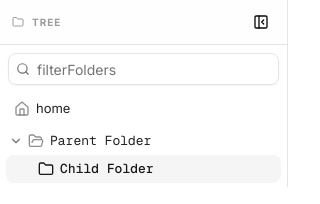
Test: DirectoryTreeSidebar › auto-expands parent folder for active route and keeps it collapsed when user closes it
The width and height of the screenshot is (320, 204).
# Collapse the parent folder
What coordinates should you click on to do the following:
click the button named "collapseFolder"
I would click on:
 (16, 141)
Its box is [6, 127, 26, 155].
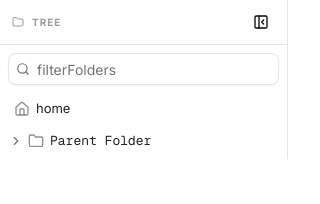
Check: the button named "expandFolder" is collapsed, box [6, 127, 26, 155]
Check: the text "Child Folder" is gone
